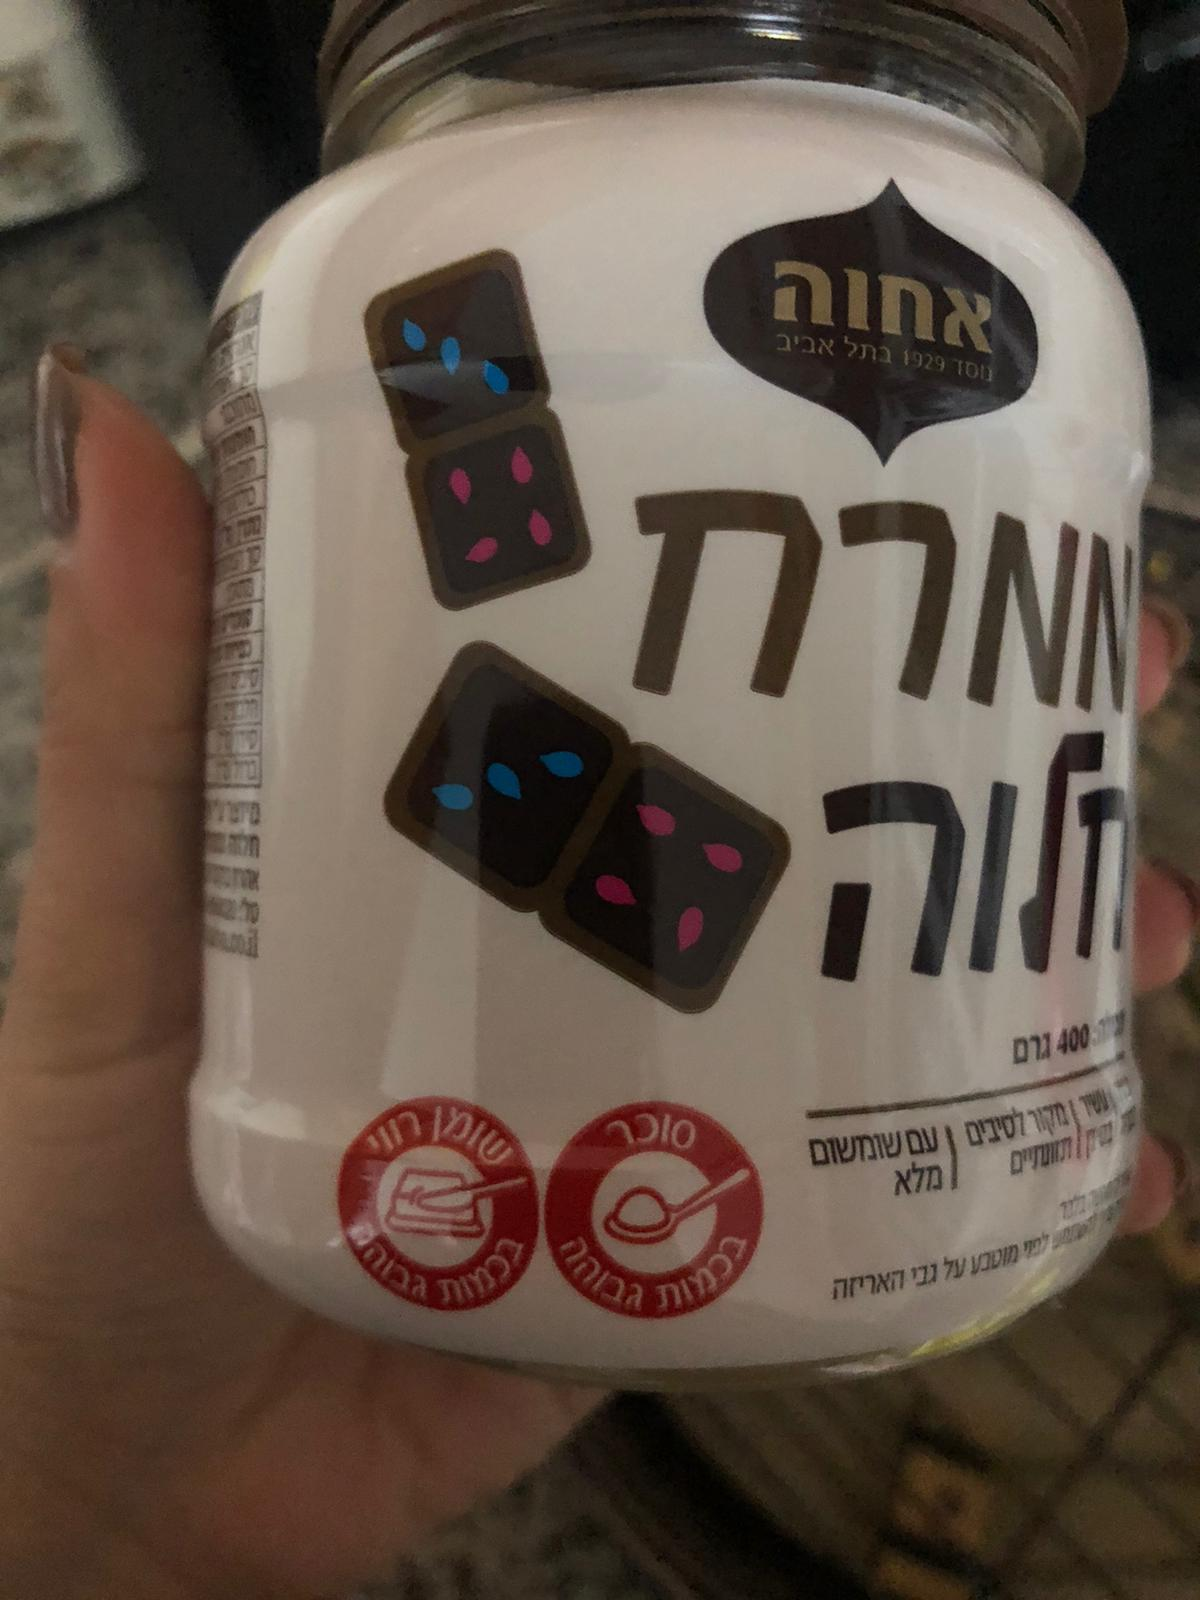fat: (334, 1099, 539, 1318)
sugar: (545, 1100, 766, 1325)
